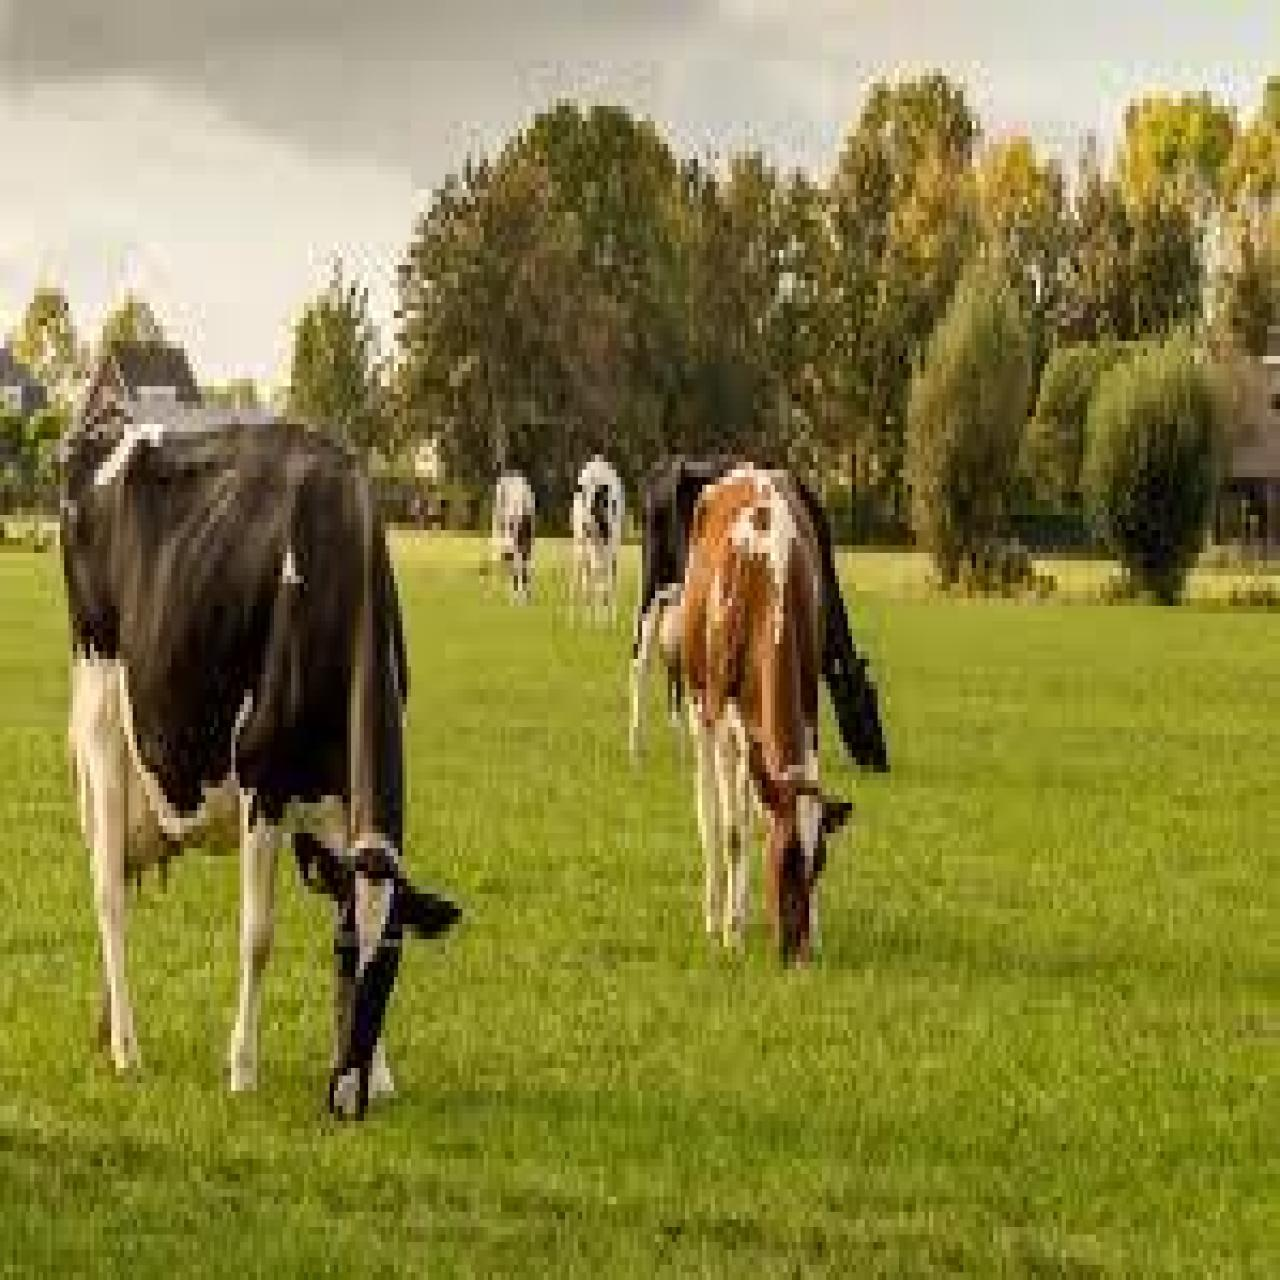cow: (62, 416, 456, 1114), (681, 465, 852, 973), (629, 467, 891, 769), (567, 455, 627, 628), (497, 477, 536, 606)
